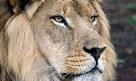lion: (2, 1, 120, 81)
